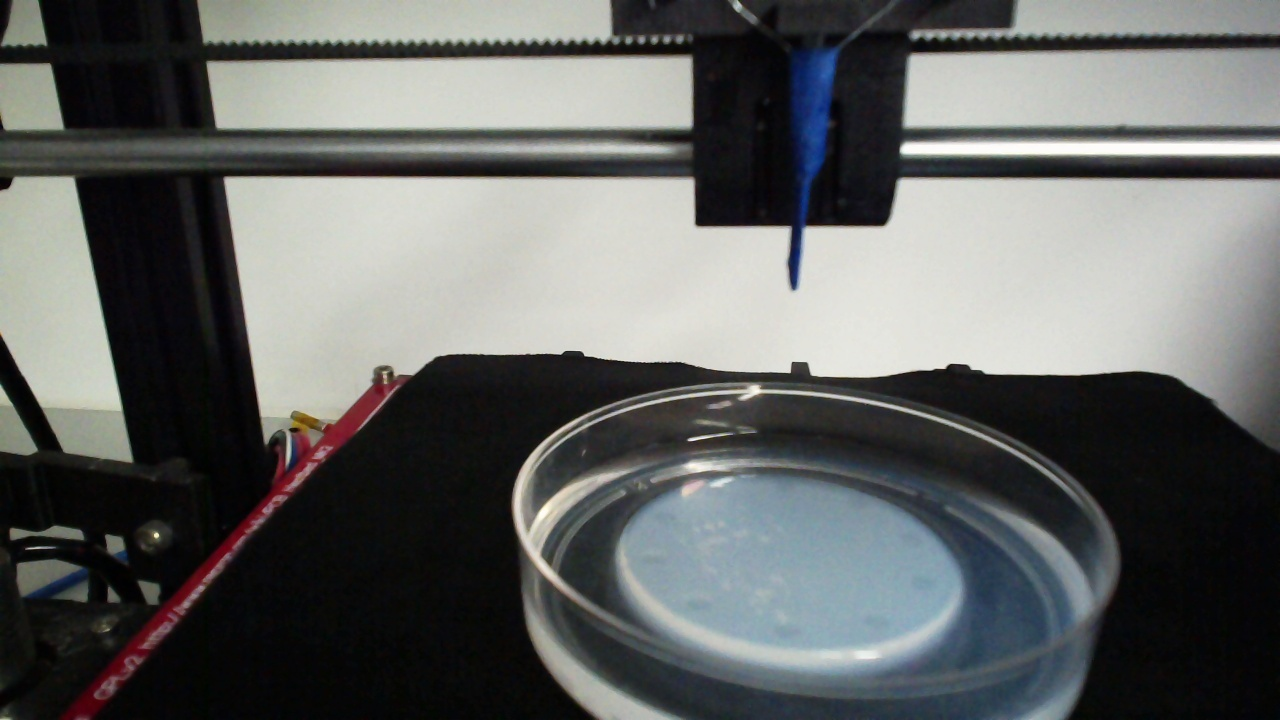groove: (862, 613, 892, 632), (910, 573, 937, 594), (772, 621, 801, 640), (686, 595, 712, 613), (900, 531, 925, 548), (652, 509, 677, 526), (846, 492, 871, 509), (773, 476, 798, 492), (640, 552, 666, 566)
needle: (788, 50, 835, 289)
